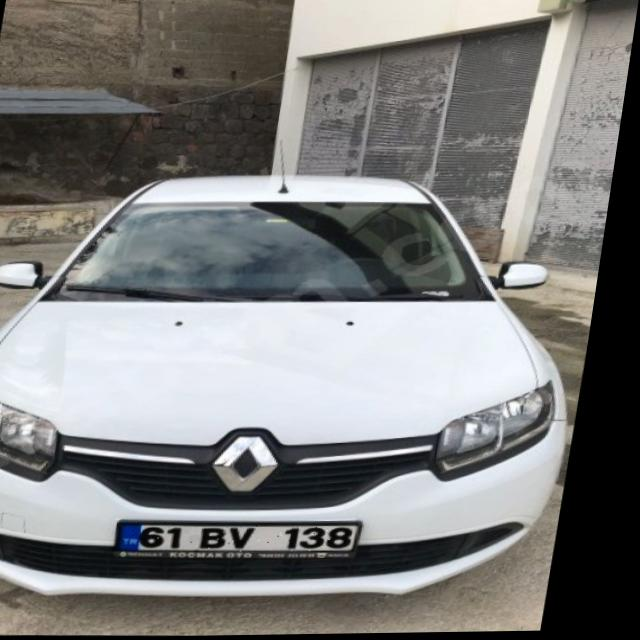license_plate: (128, 520, 375, 556)
